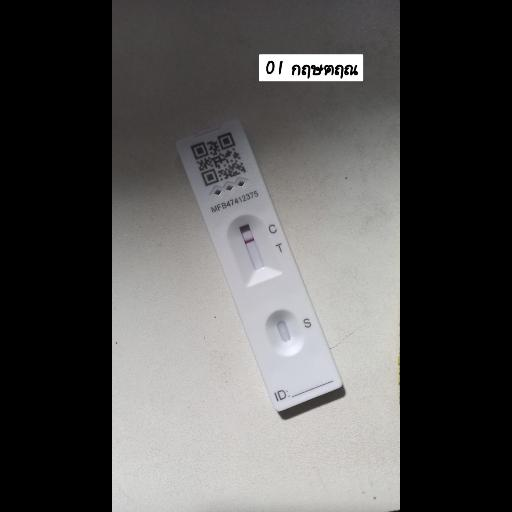Neg: (175, 117, 343, 413)
